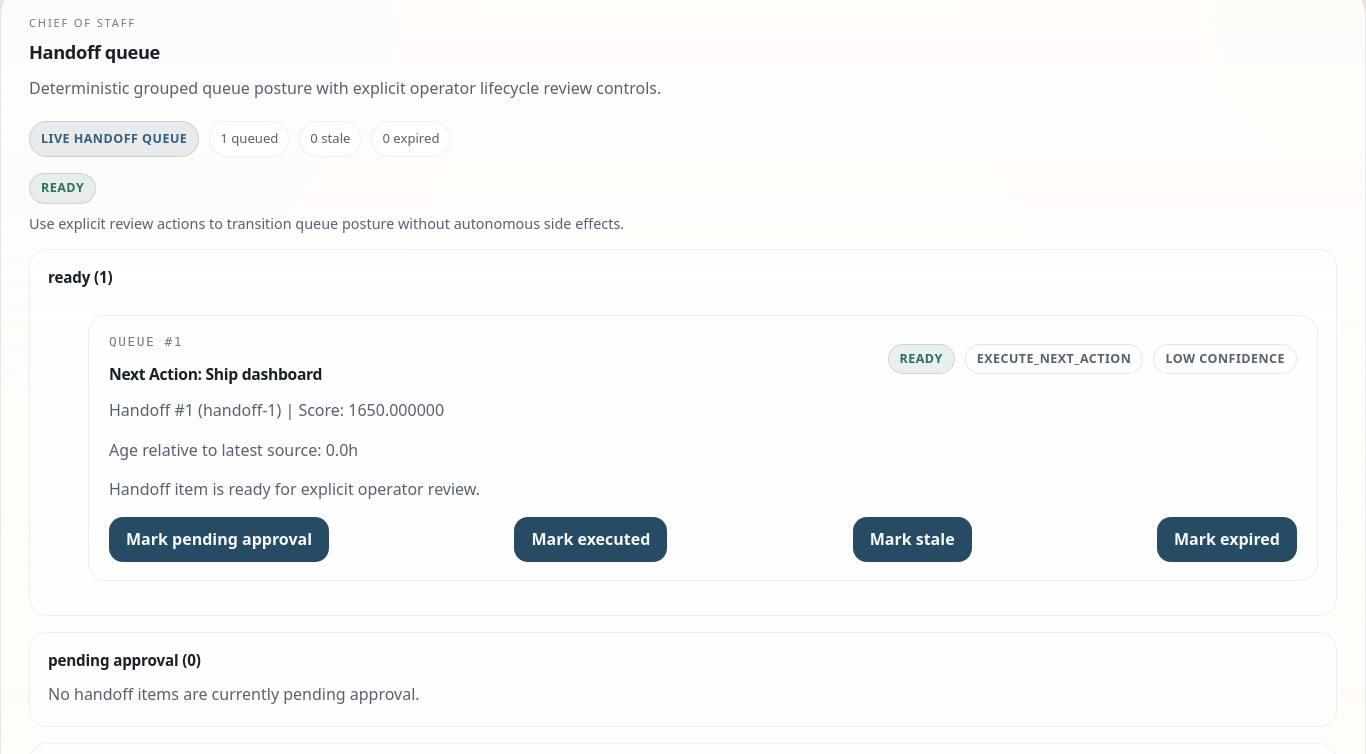
Scenario: ChiefOfStaffHandoffQueuePanel › submits explicit review actions in live mode and updates queue posture
This screenshot has width=1366, height=754.
Click the button "Mark stale" at (912,540), box [853, 517, 972, 562]
(page scrolled)
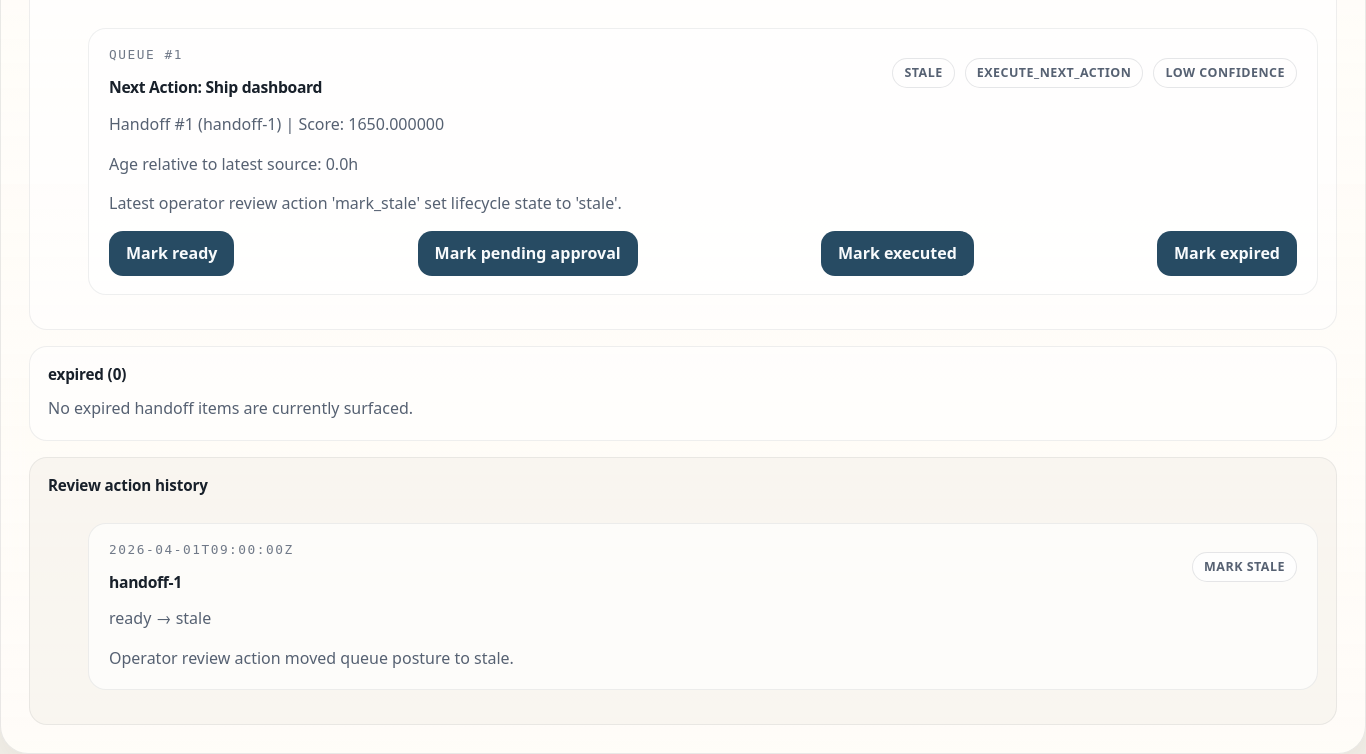
Result: the text "Operator review action moved queue posture to stale." is shown at [109, 647, 514, 669]
